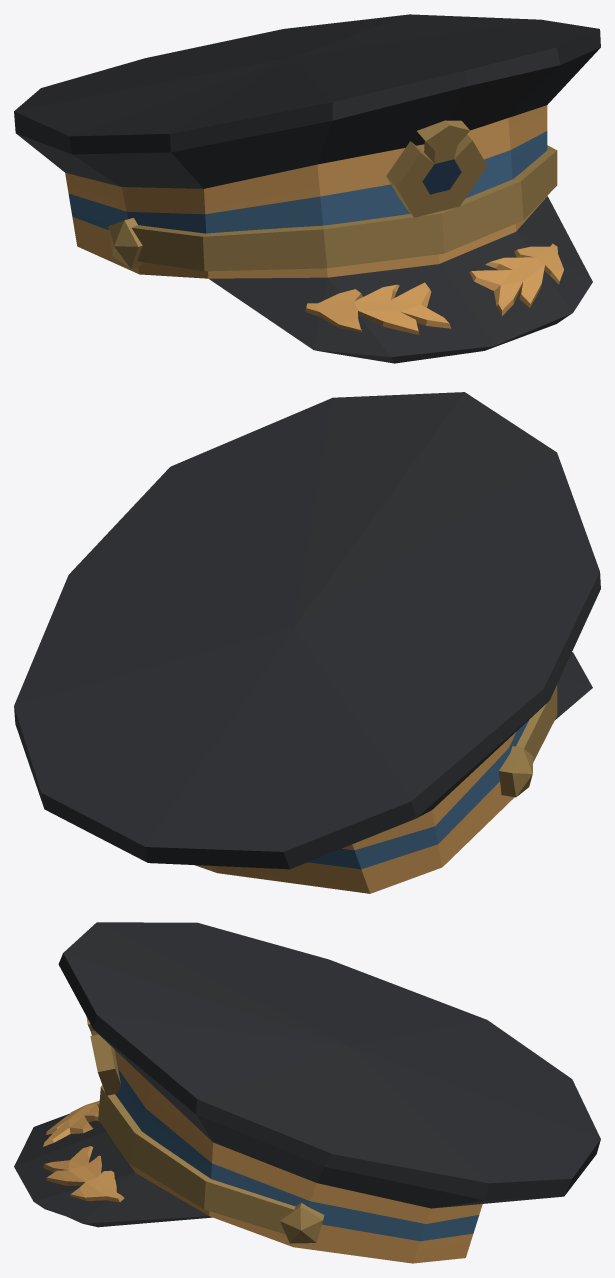
Rendered from SM_Chr_Attach_Hat_01.fbx.
3 renders of one model, top to bottom at view 1: azimuth 30°, elevation 25°; view 2: azimuth 150°, elevation 25°; view 3: azimuth 270°, elevation 25°, orthographic. The views are drawn at different scales.
Parts seen in each view (by area): view 1: SM_Chr_Attach_Hat_01; view 2: SM_Chr_Attach_Hat_01; view 3: SM_Chr_Attach_Hat_01.
Part boxes in pixels (bbox=[...]): SM_Chr_Attach_Hat_01: bbox=[14, 14, 600, 363]; SM_Chr_Attach_Hat_01: bbox=[14, 392, 600, 893]; SM_Chr_Attach_Hat_01: bbox=[14, 922, 600, 1263].
Bounding box in the file's own units: 35.6 × 21.4 × 45.09.
